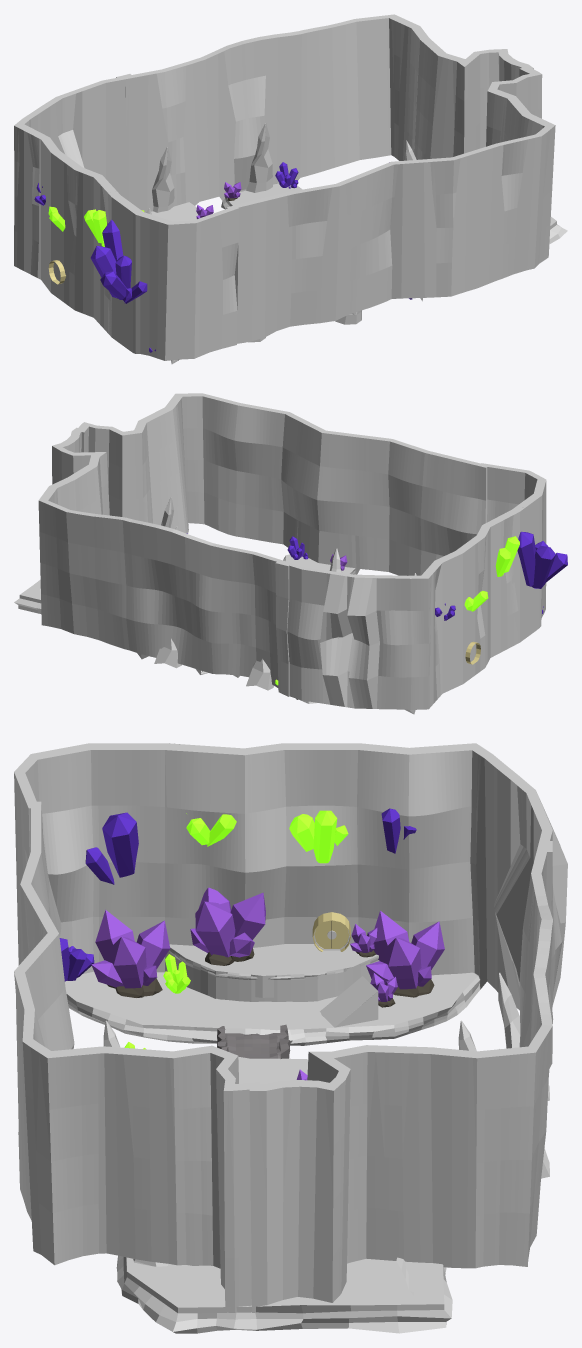
The model's file is CENA6- CENAFINAL-2002.fbx.
The picture shows the model from 3 angles, top to bottom: view 1: azimuth 30°, elevation 25°; view 2: azimuth 150°, elevation 25°; view 3: azimuth 270°, elevation 25°; orthographic projection. The views are drawn at different scales.
Visible parts, largest first — view 1: Plane.001, Spindle003, Stal02.001, Stal02.002, Spindle008.002; view 2: Plane.001, Spindle003, Spindle008.002, Stal02.002, Stal02.001; view 3: Plane.001, crystal cluster on rock.001, crystal cluster on rock, crystal cluster on rock.002, Spindle003, Spindle008, Plane.004, Ponte1.001, Porta, Stal02.002, Spindle008.002, Spindle003.001 (+1 smaller).
Part boxes in pixels (x1,y1,x2,y2): Plane.001: (14, 14, 567, 364); Spindle003: (90, 219, 147, 303); Stal02.001: (246, 123, 272, 192); Stal02.002: (152, 147, 174, 212); Spindle008.002: (84, 209, 106, 246); Plane.001: (14, 393, 546, 714); Spindle003: (517, 531, 567, 588); Spindle008.002: (495, 536, 519, 576); Stal02.002: (246, 659, 273, 690); Stal02.001: (154, 638, 181, 668); Plane.001: (14, 743, 567, 1333); crystal cluster on rock.001: (91, 909, 170, 997); crystal cluster on rock: (190, 887, 265, 965); crystal cluster on rock.002: (366, 910, 444, 997); Spindle003: (85, 812, 138, 884); Spindle008: (289, 810, 348, 863); Plane.004: (320, 976, 378, 1027); Ponte1.001: (217, 1024, 290, 1058); Porta: (312, 912, 350, 951); Stal02.002: (498, 972, 549, 1100); Spindle008.002: (186, 813, 236, 846); Spindle003.001: (59, 938, 94, 981).
Bounding box in the file's own units: 2525 × 832 × 1562.
